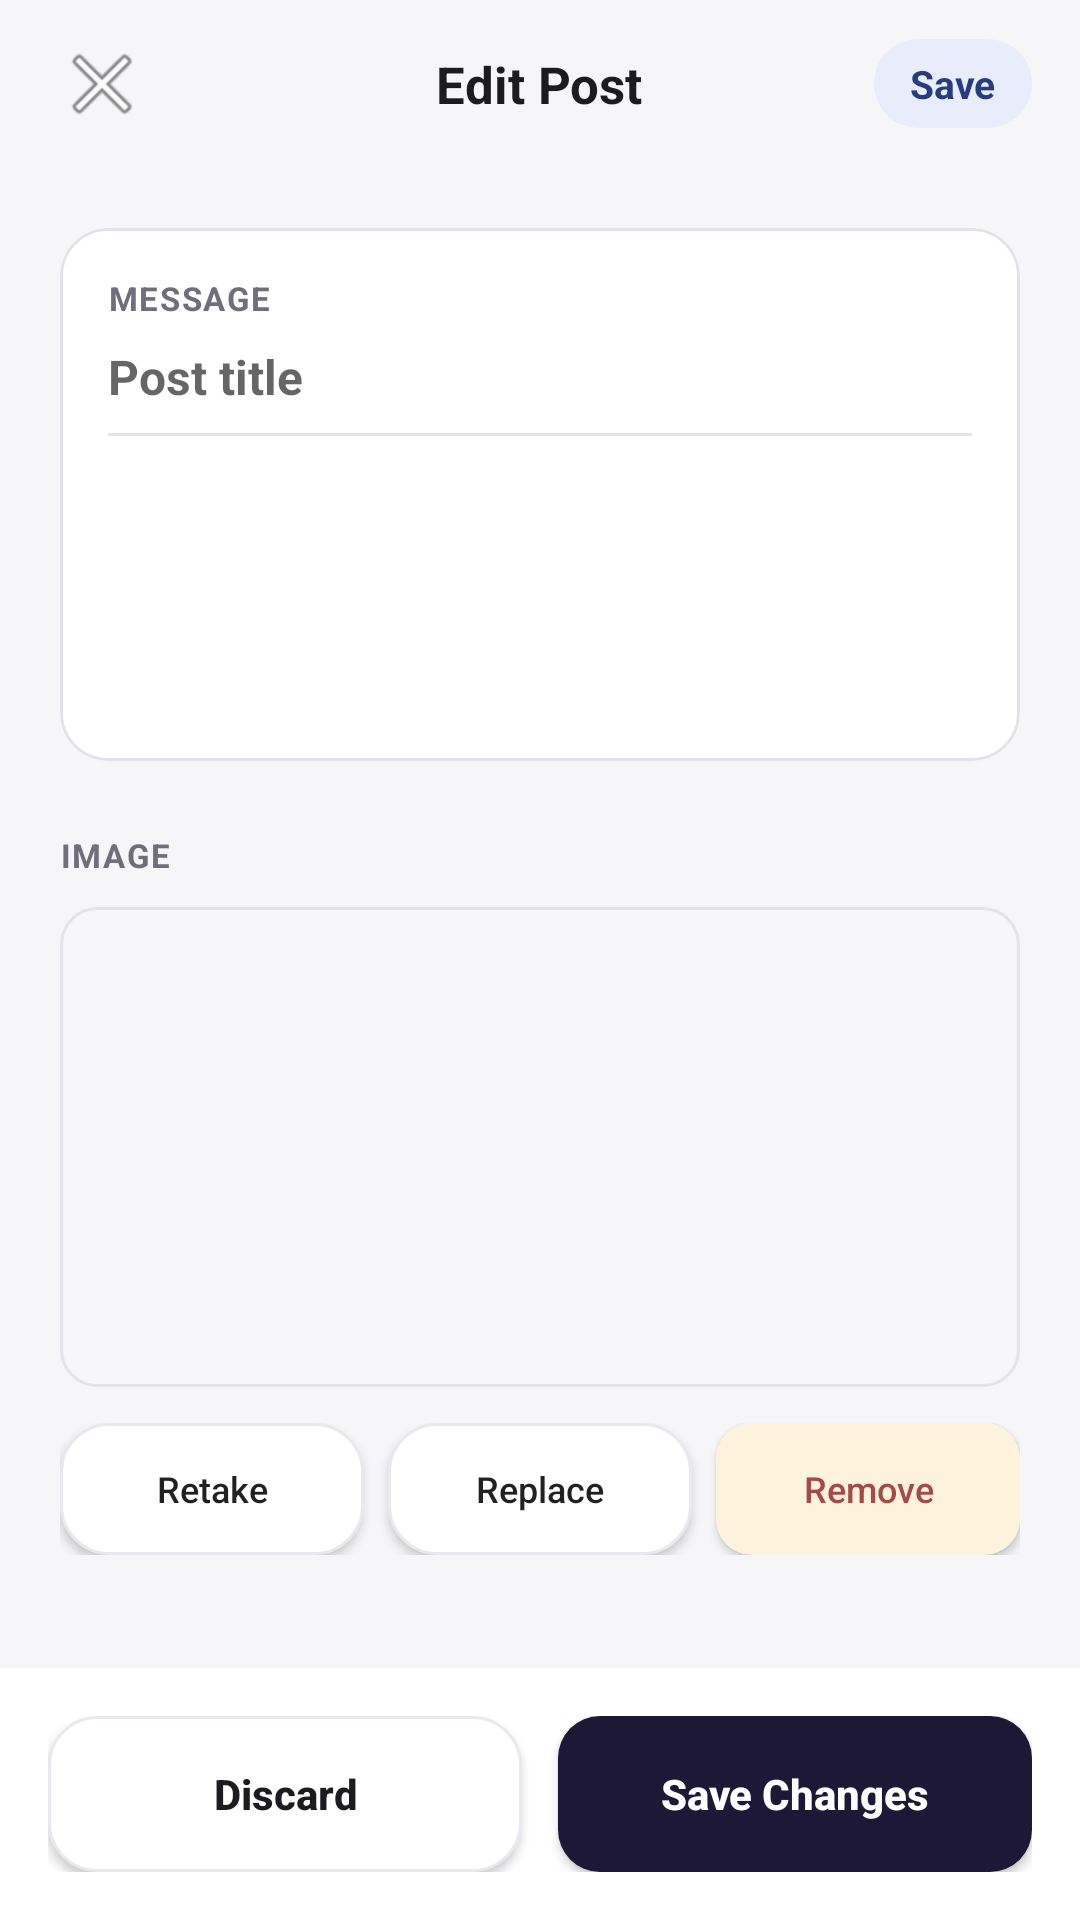

Where icons sit on this 1080×1920 app screen, as (x1, y1, x2, y2):
close clear cancel: (72, 54, 132, 114)
